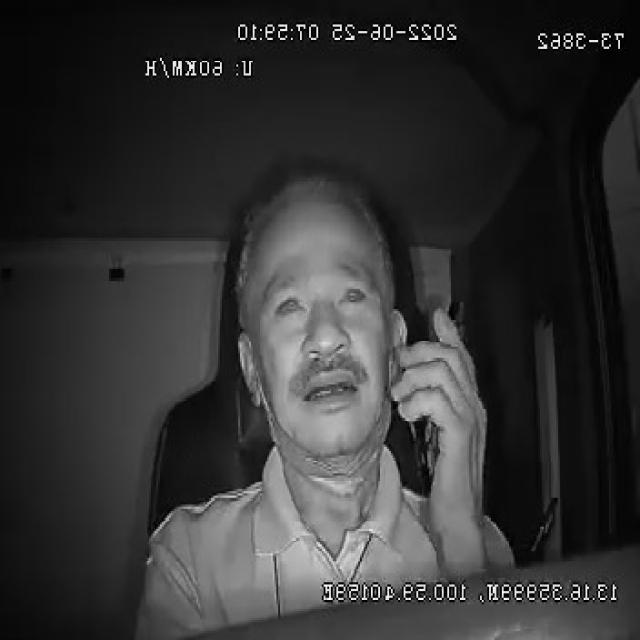phone: (408, 289, 472, 497)
